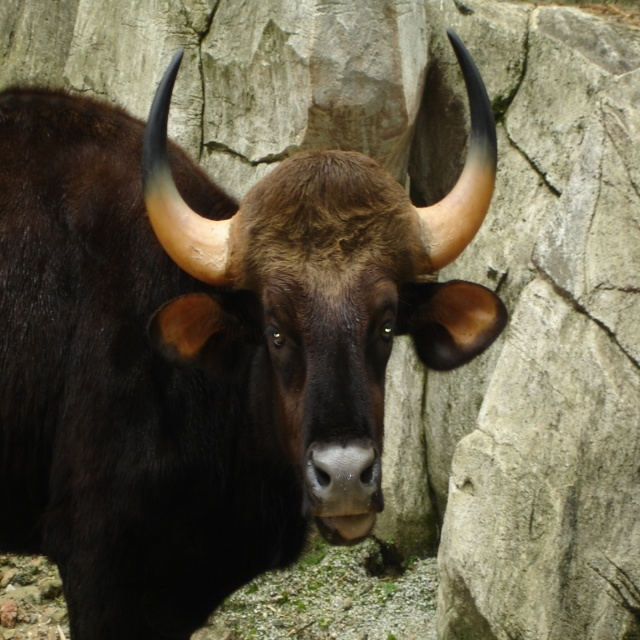Cattle: (0, 27, 510, 640)
